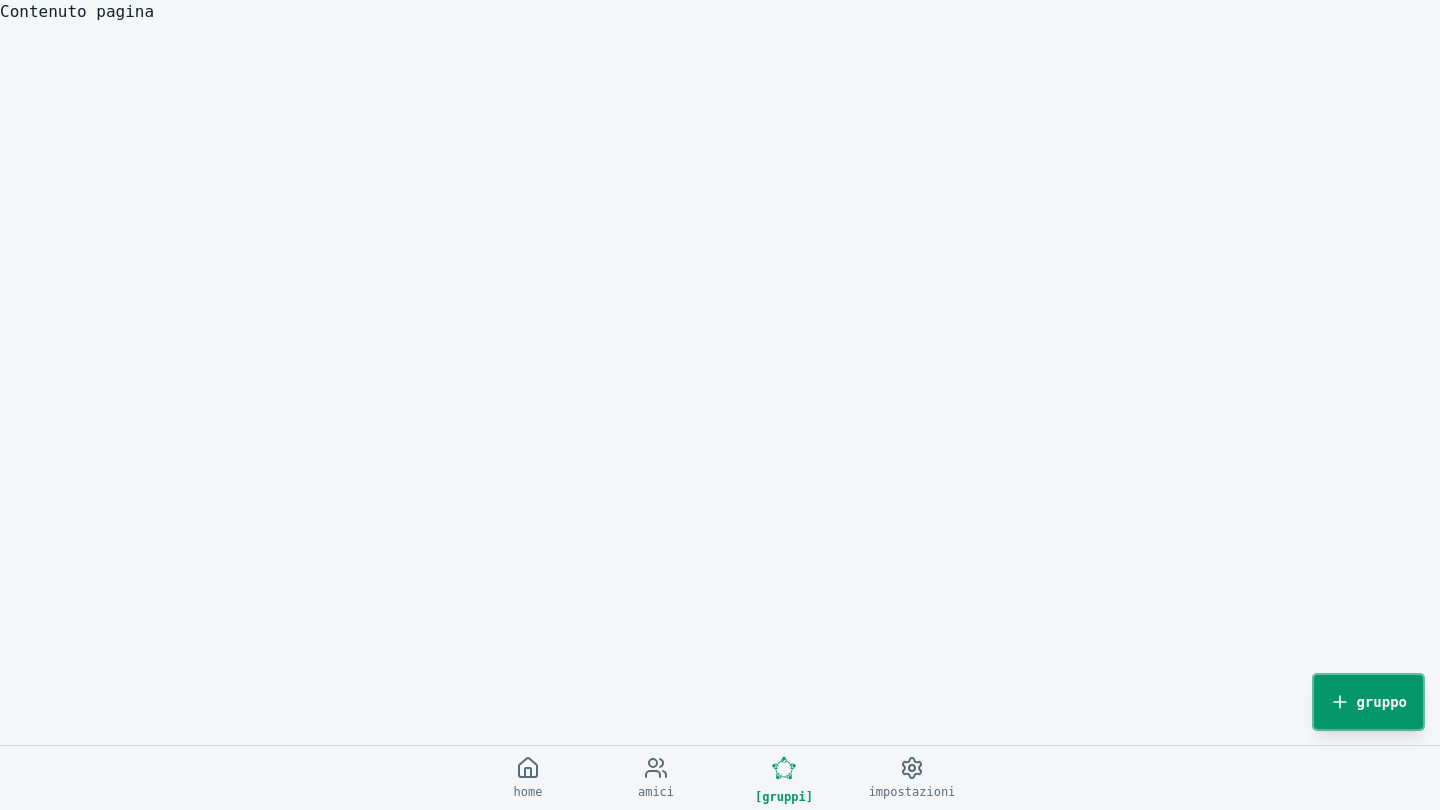
AppLayout — FAB contestuale › su /groups apre la creazione di un nuovo gruppo
Step 1. Click the button with aria-label "Nuovo gruppo" → (1369, 702), box x1=1313 y1=674 x2=1424 y2=730
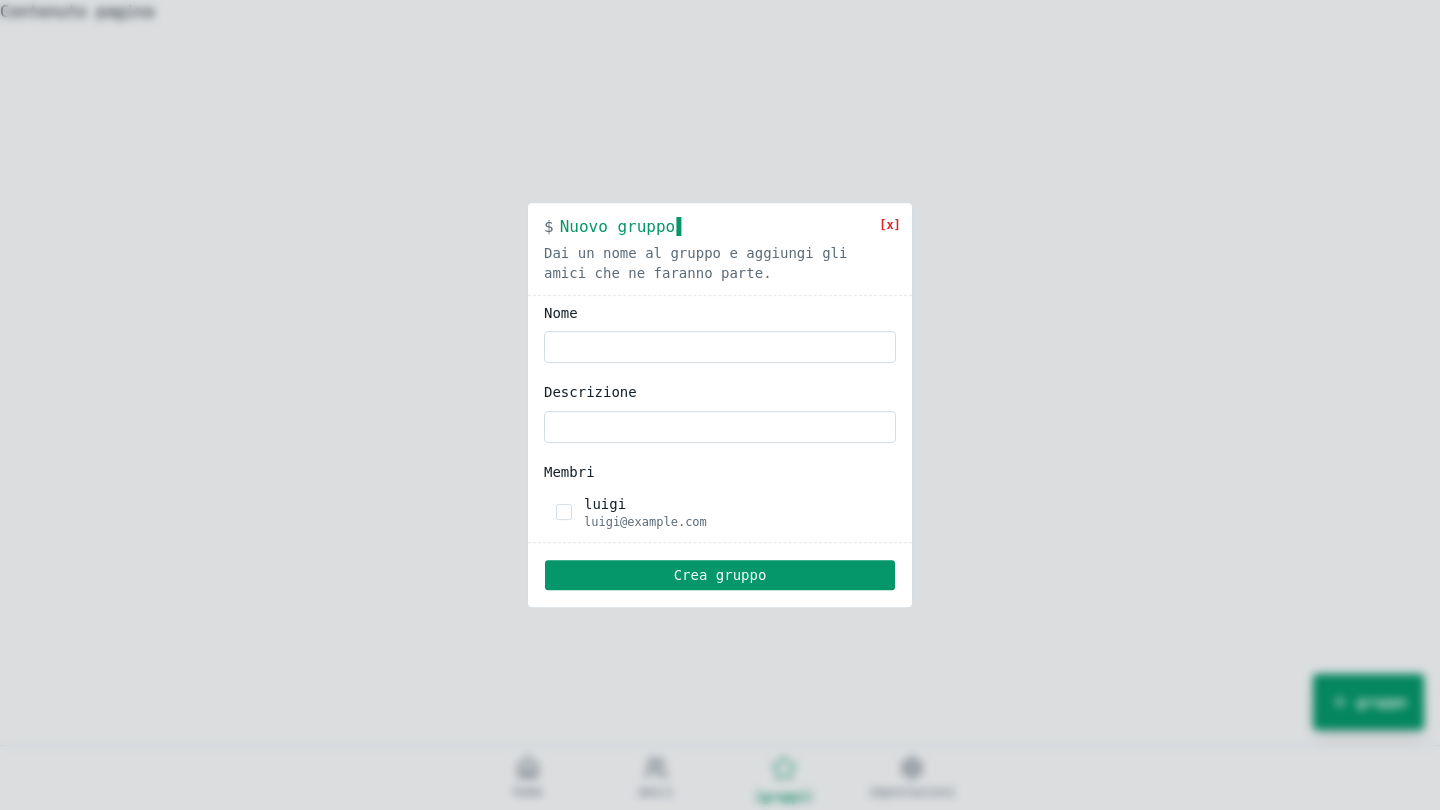
expect the text "Dai un nome al gruppo e aggiungi gli amici che ne faranno parte." is shown: met, box x1=544 y1=243 x2=872 y2=283
